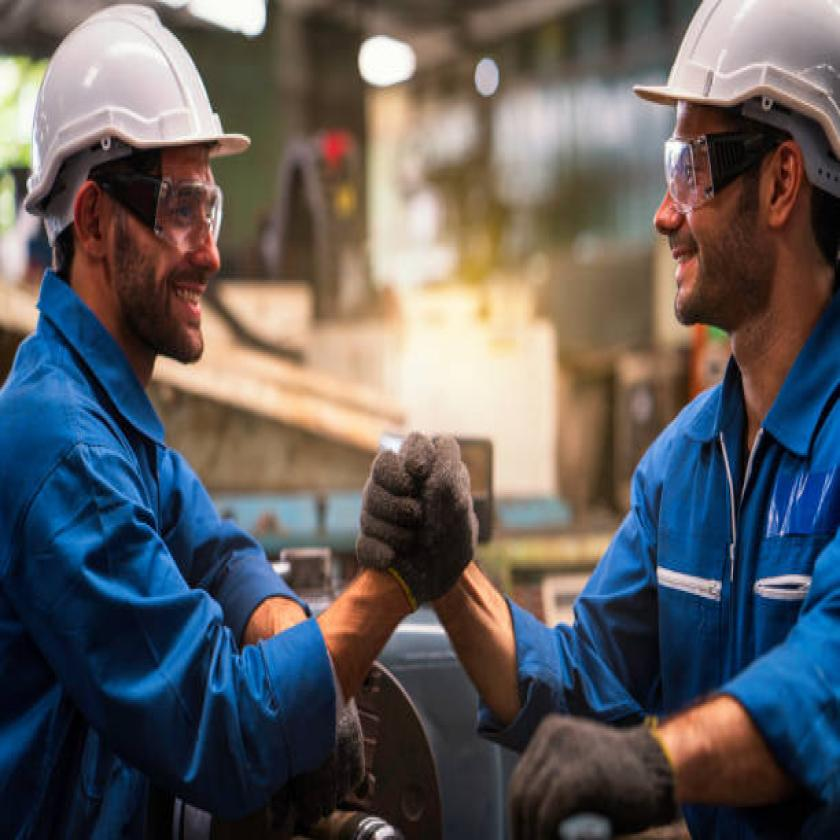Con_casco: (24, 0, 256, 375), (613, 4, 840, 368)
